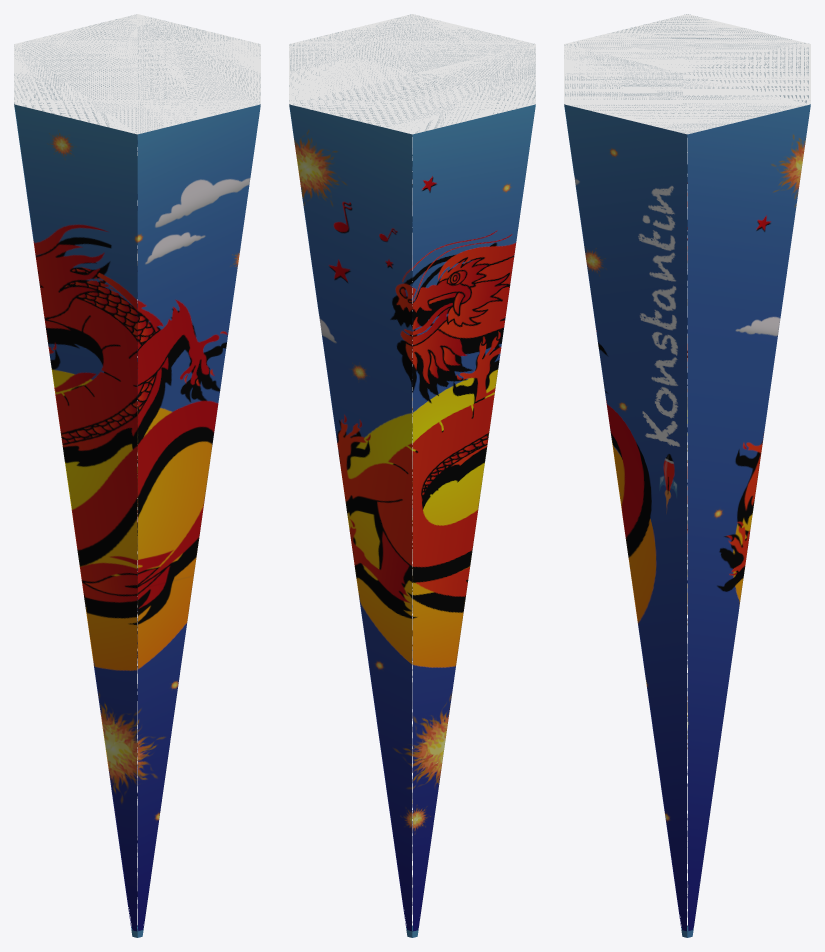
3 views of the same model, side by side, from view 1: azimuth 30°, elevation 25°; view 2: azimuth 150°, elevation 25°; view 3: azimuth 270°, elevation 25° (orthographic).
Visible parts, largest first — view 1: SketchUp (×4); view 2: SketchUp (×4); view 3: SketchUp (×4).
Boxes of the visible parts, box(x1,y1,x2,y2) form: SketchUp (×4): box(14, 14, 260, 937); SketchUp (×4): box(289, 14, 535, 937); SketchUp (×4): box(564, 14, 810, 937).
Size of the model in its own units: 9.45 by 8.18 by 31.5.
8 materials, 6 textured.
